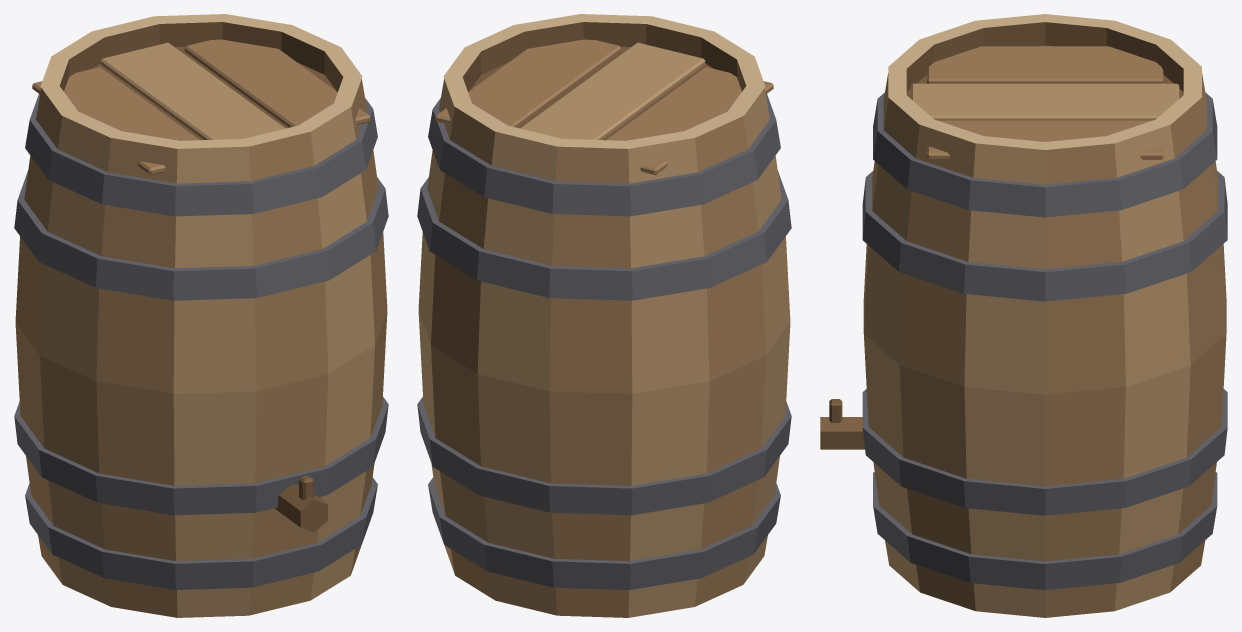
The model's file is barrel.glb.
The picture shows the model from 3 angles, left to right: view 1: azimuth 30°, elevation 25°; view 2: azimuth 150°, elevation 25°; view 3: azimuth 270°, elevation 25°; orthographic projection.
Visible parts, largest first — view 1: Barrel; view 2: Barrel; view 3: Barrel.
Boxes of the visible parts, bbox=[...] form: Barrel: bbox=[14, 14, 388, 617]; Barrel: bbox=[417, 14, 791, 617]; Barrel: bbox=[820, 14, 1227, 617].
Bounding box in the file's own units: 0.7247 × 1 × 0.7885.
